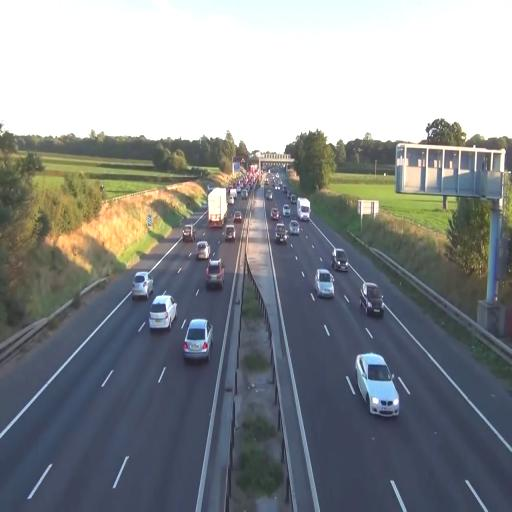vehicle: (355, 352, 400, 418), (182, 318, 212, 364), (149, 294, 176, 331), (360, 280, 384, 317), (208, 188, 226, 229), (313, 268, 335, 300), (222, 212, 244, 242), (206, 258, 224, 290), (131, 272, 151, 300), (331, 248, 349, 271), (297, 198, 311, 221), (195, 240, 210, 261), (274, 223, 288, 244), (288, 219, 300, 235)
